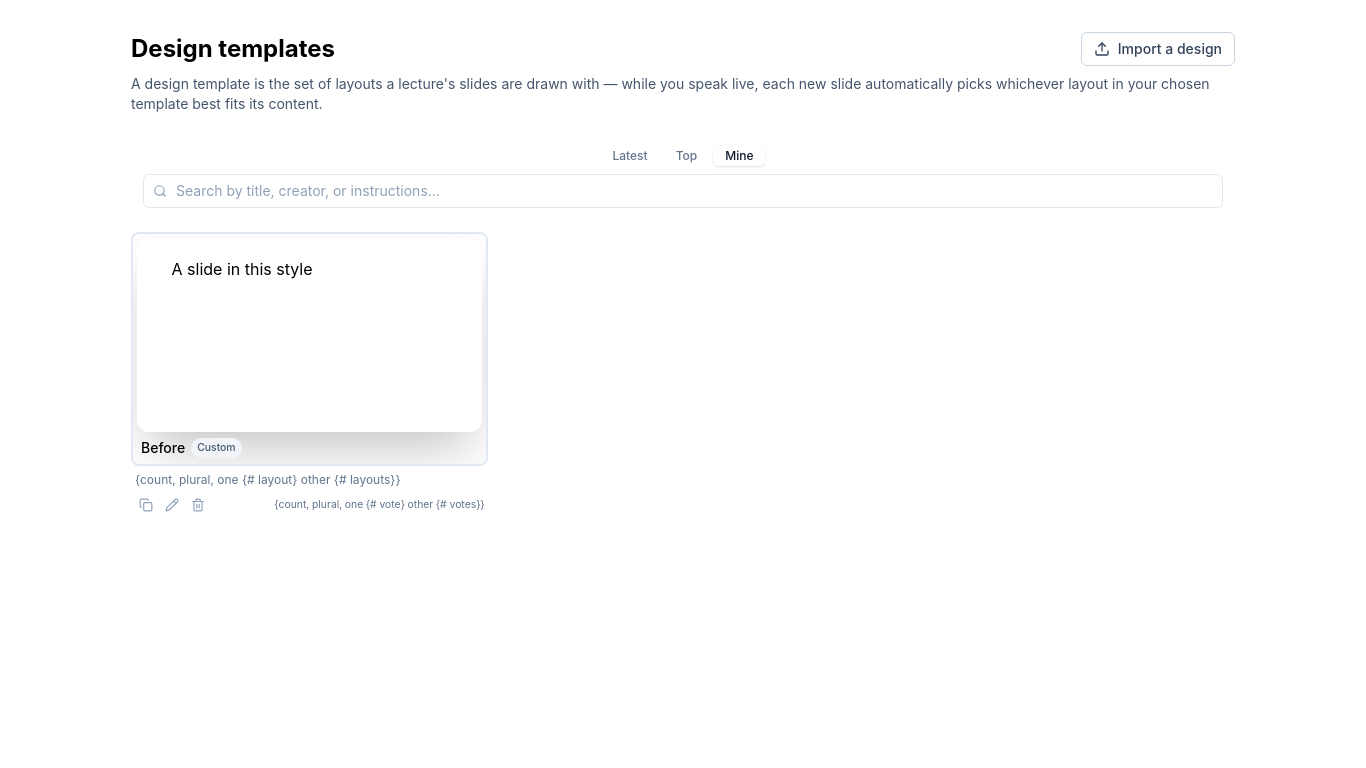
Test: DesignTemplatesPage import (TMPL-28) › refreshes Mine directly when an import lands while already there
Expected: the text "Before" is shown, [141, 438, 185, 458]
Click the button "Import a design" at coordinates (1158, 49), box [1081, 32, 1235, 66]
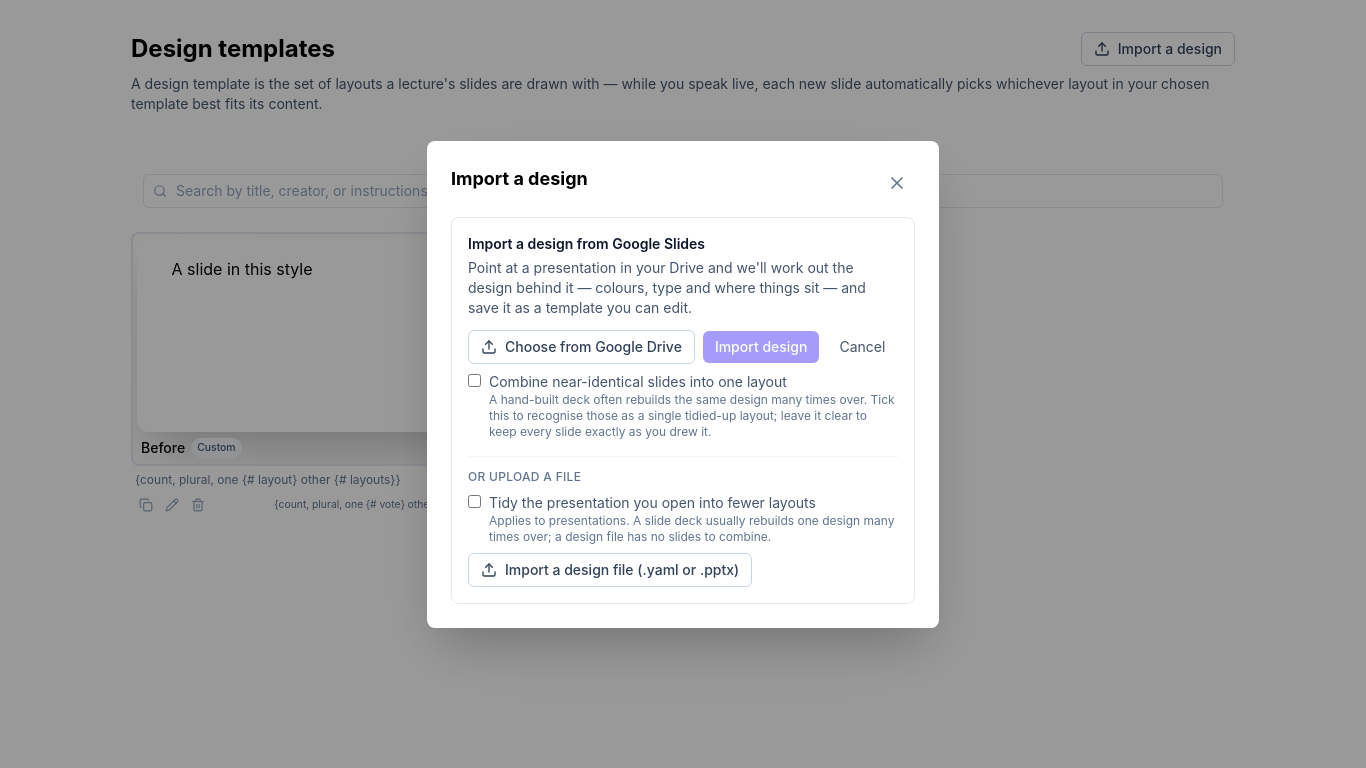
Click the button "Choose from Google Drive" at coordinates (581, 346), box [468, 330, 695, 364]
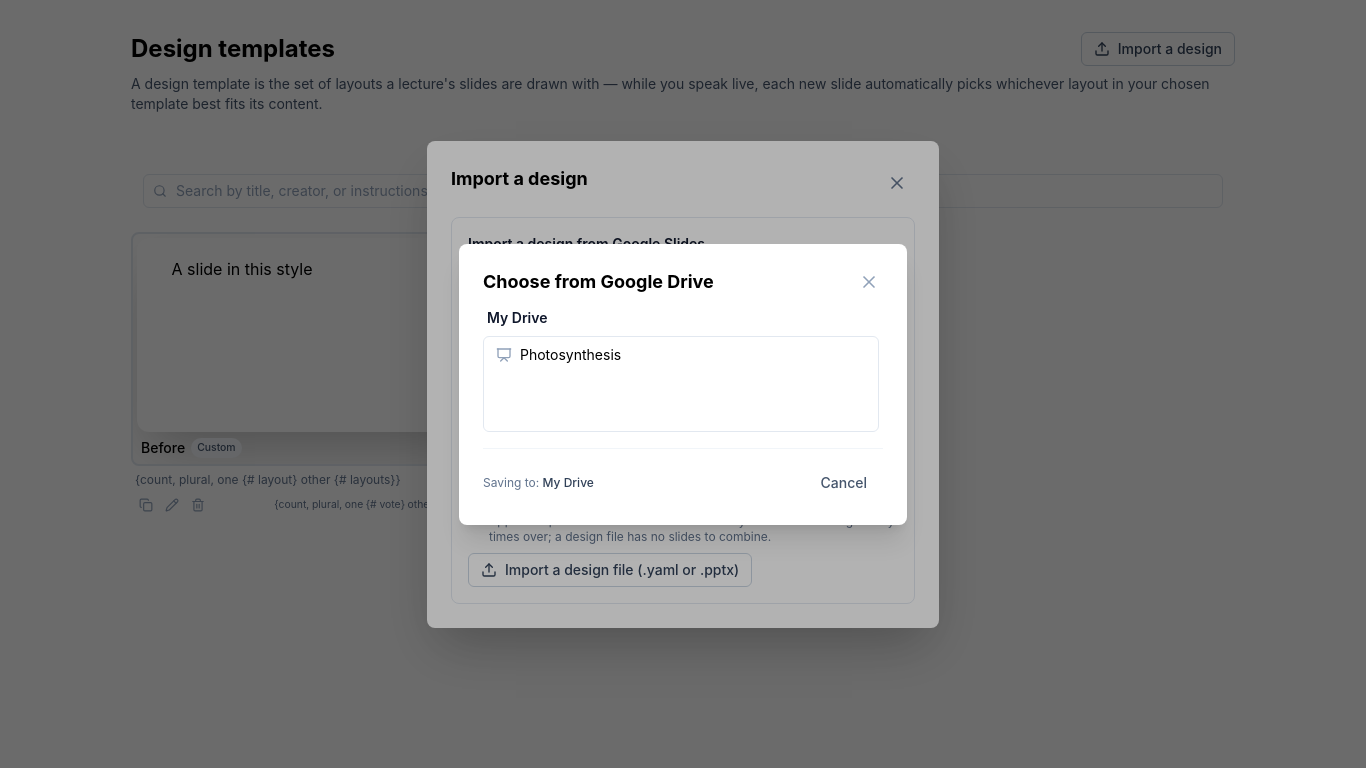
Click the button "Photosynthesis" at coordinates (571, 354), box [484, 336, 878, 372]
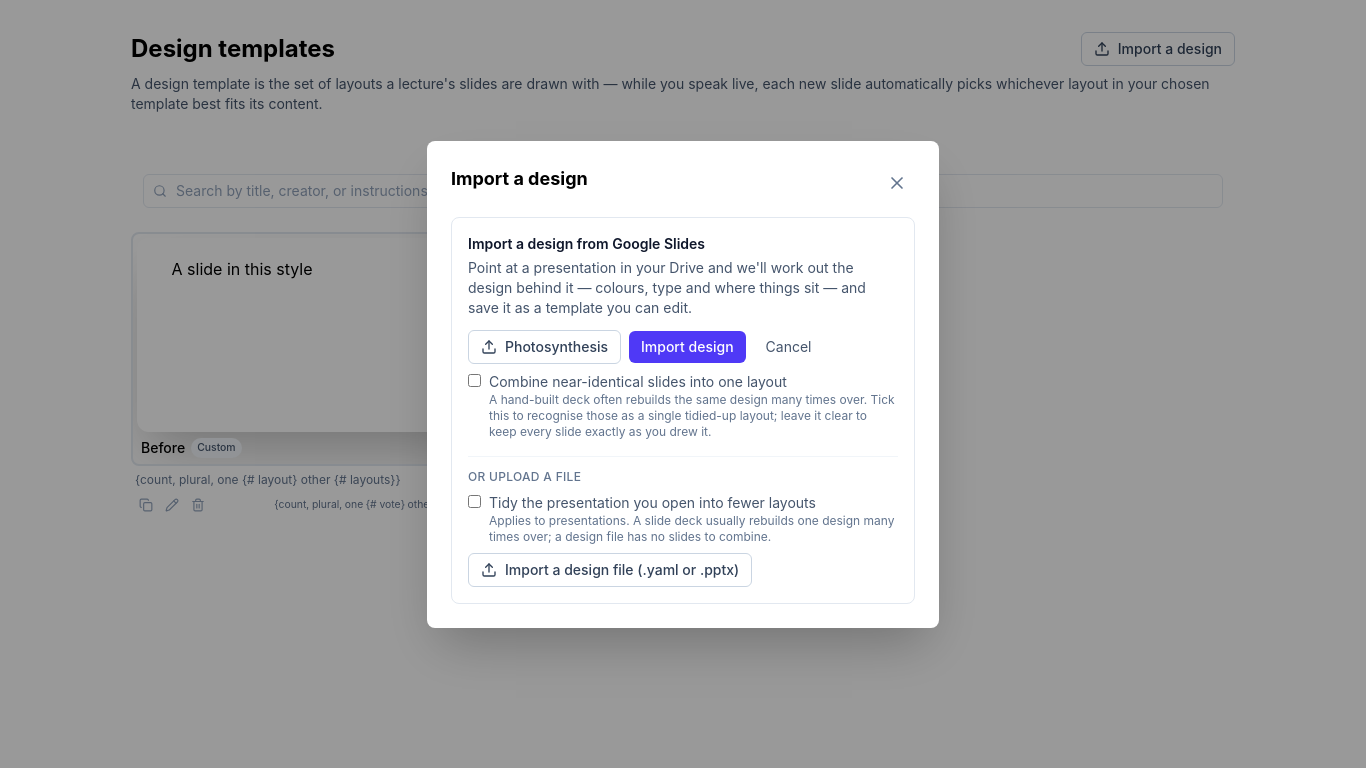
Click the button "Import design" at coordinates (687, 346), box [629, 330, 746, 362]
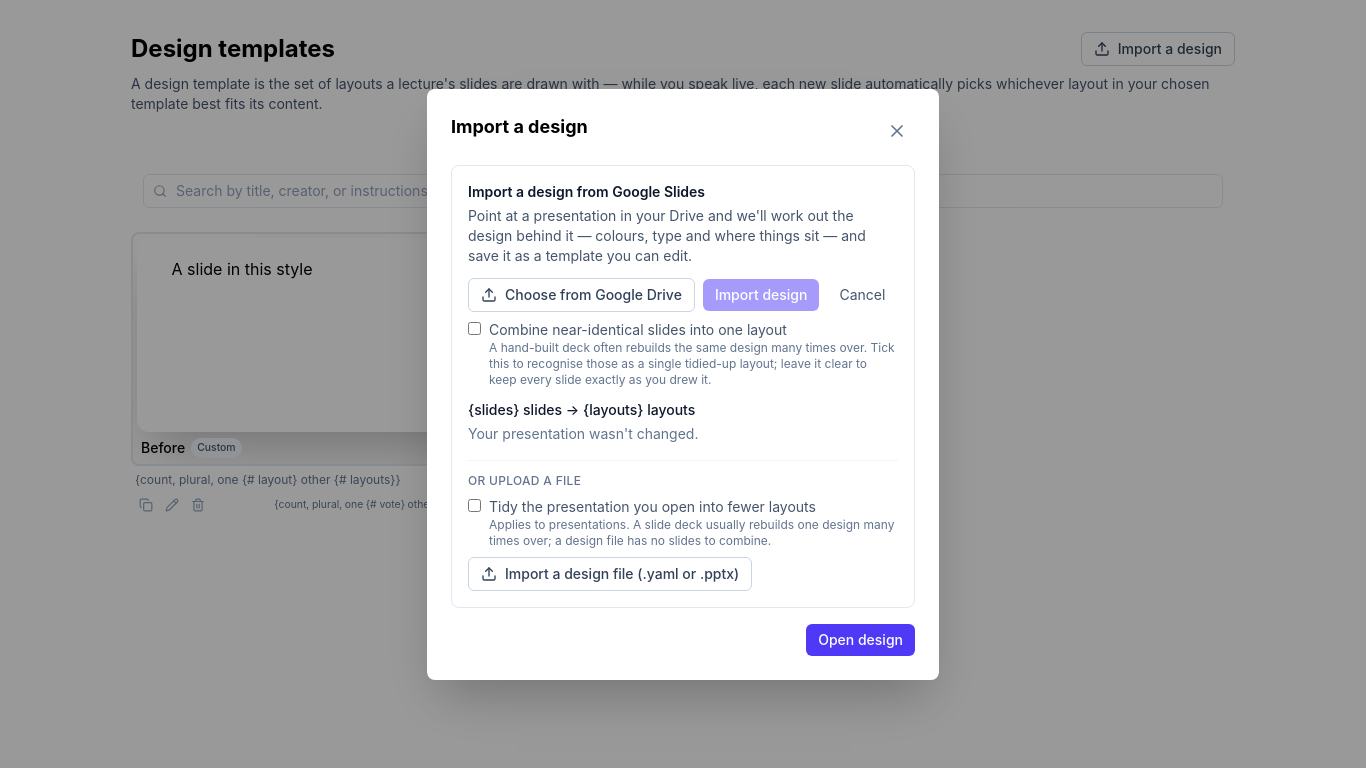
Now the message "{slides} slides → {layouts} layouts Your presentation wasn't changed." is shown, box [468, 400, 698, 442]
Now the text "Imported Two" is shown, box [514, 438, 607, 458]
